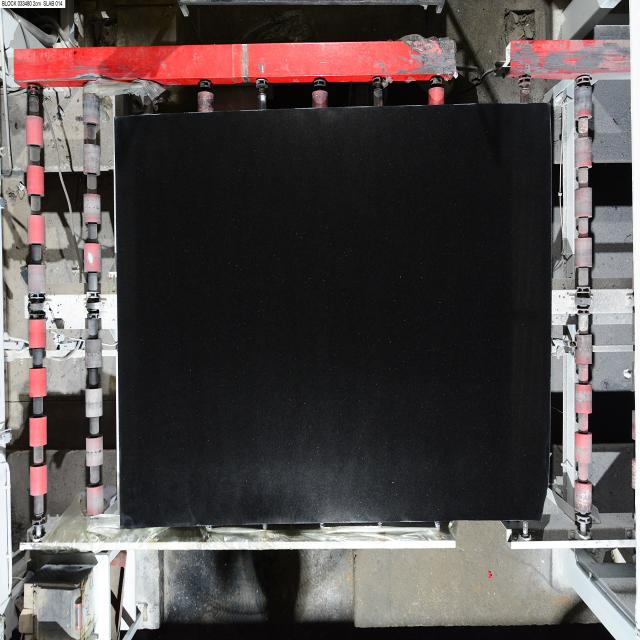chapa: (115, 103, 551, 527)
